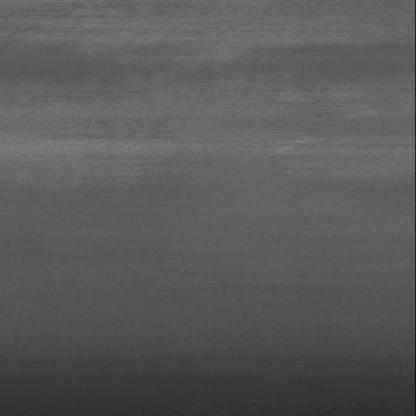silk_spot: (258, 86, 385, 172)
